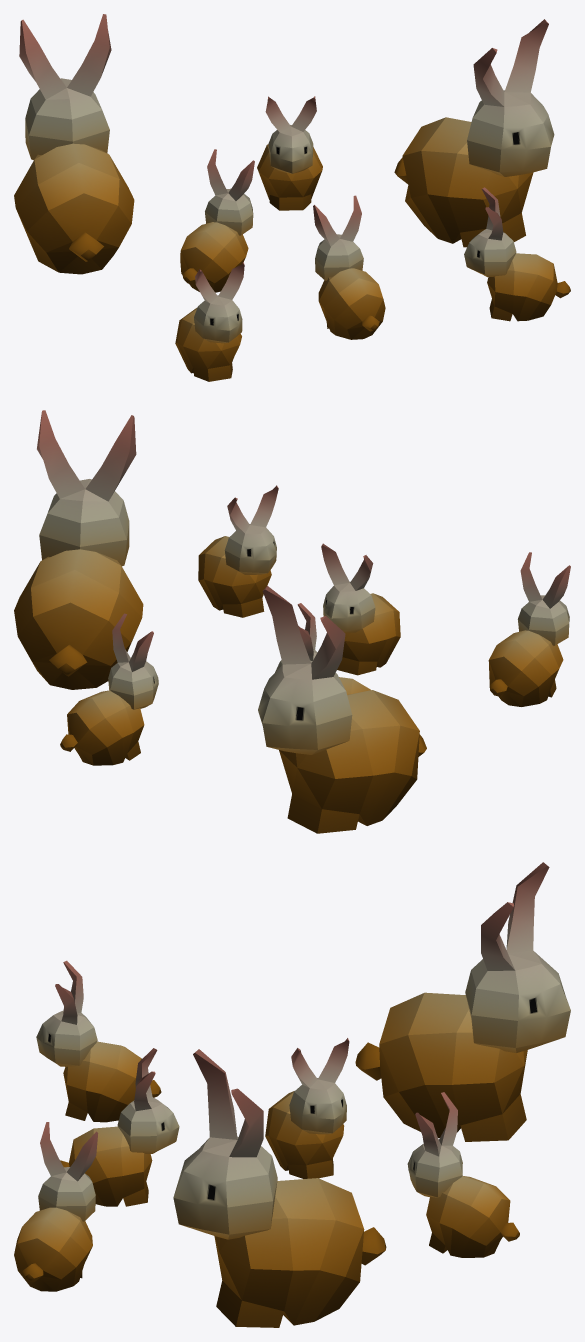
Rendered from rabbit_mesh.fbx.
3 renders of one model, top to bottom at view 1: azimuth 30°, elevation 25°; view 2: azimuth 150°, elevation 25°; view 3: azimuth 270°, elevation 25°, orthographic. The views are drawn at different scales.
Parts seen in each view (by area): view 1: rabbits; view 2: rabbits; view 3: rabbits.
Boxes of the visible parts, box(x1,y1,x2,y2) form: rabbits: box(14, 14, 570, 381); rabbits: box(14, 410, 570, 833); rabbits: box(14, 862, 570, 1327).
Size of the model in its own units: 0.7125 by 0.3328 by 0.6736.
